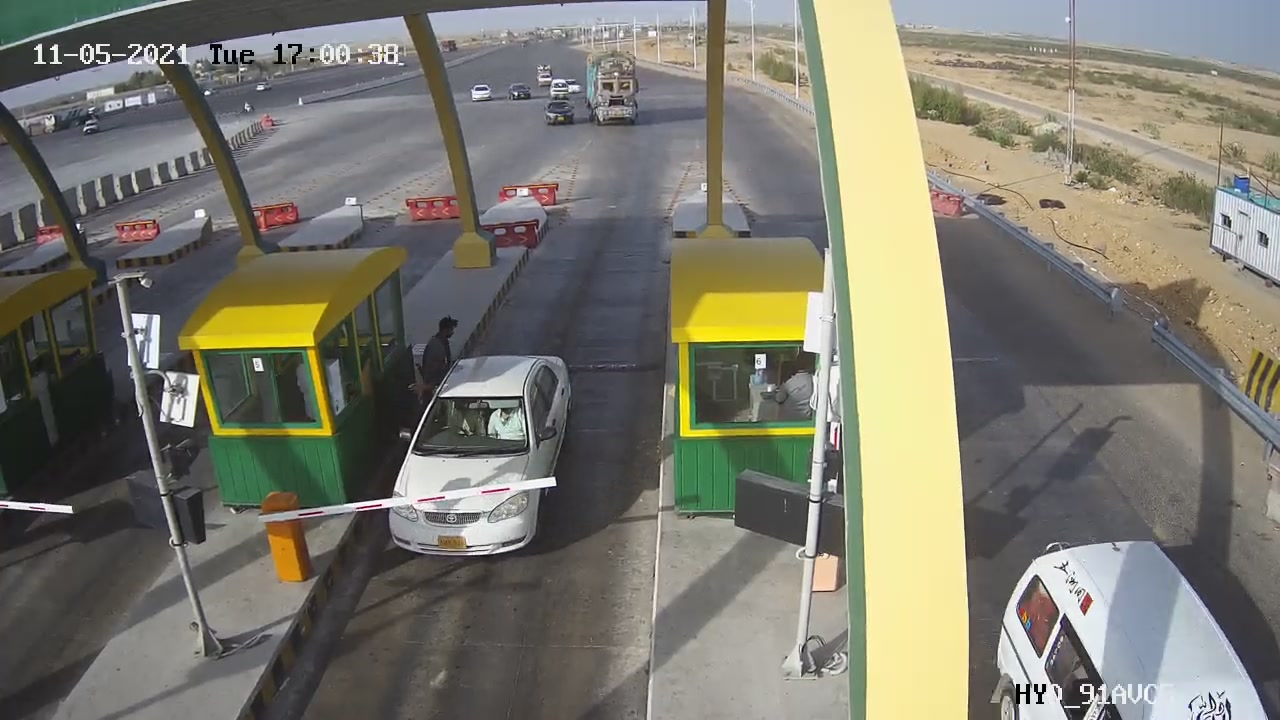F1: (373, 336, 590, 578)
